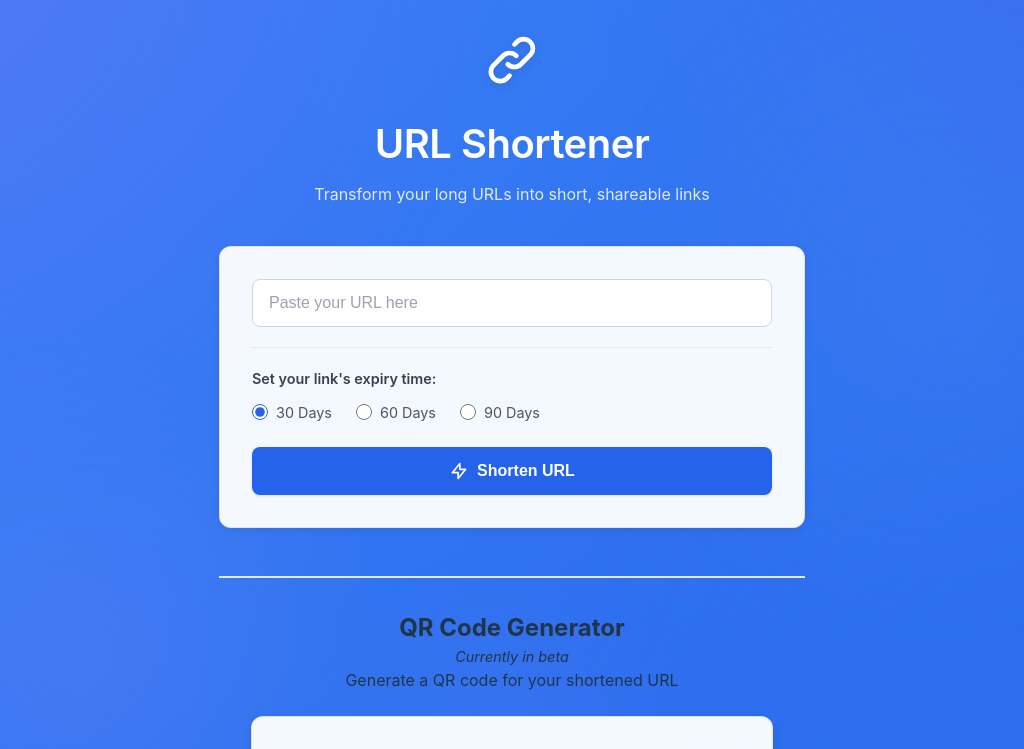
Test: App Component › Successful URL Shortening › should display shortened URL on successful response
The width and height of the screenshot is (1024, 749).
Type "https://example.com/very/long/url" into the field with placeholder "Paste your URL here" at (512, 303), box [252,279,772,327]
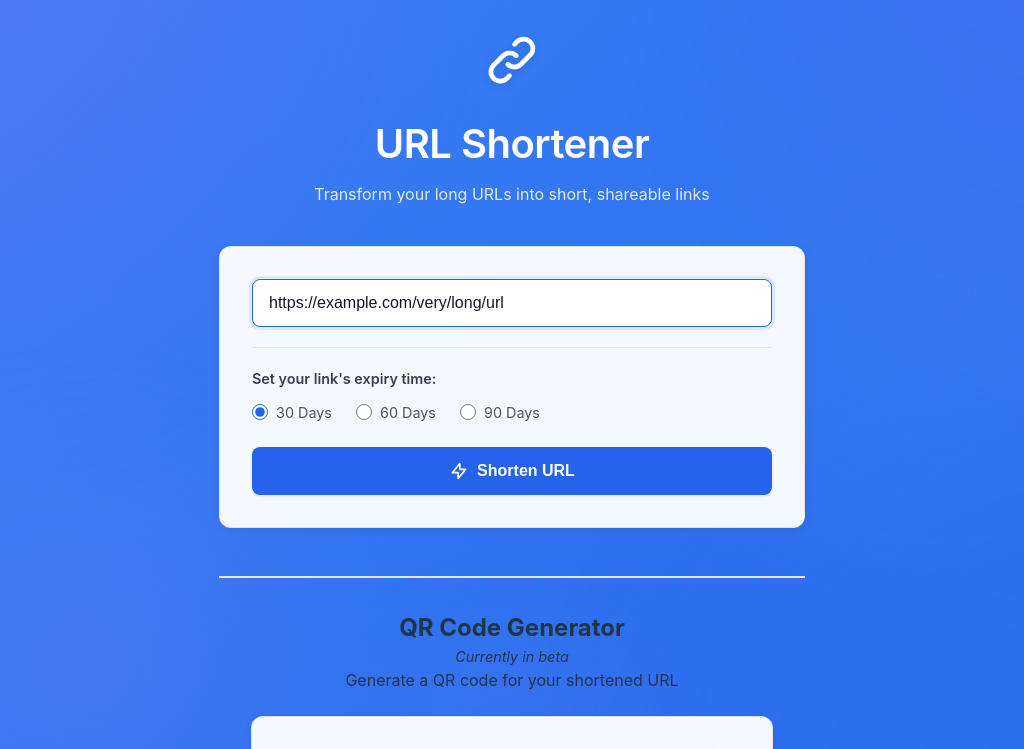
Click the button "Shorten URL" at (512, 471), box [252,447,772,495]
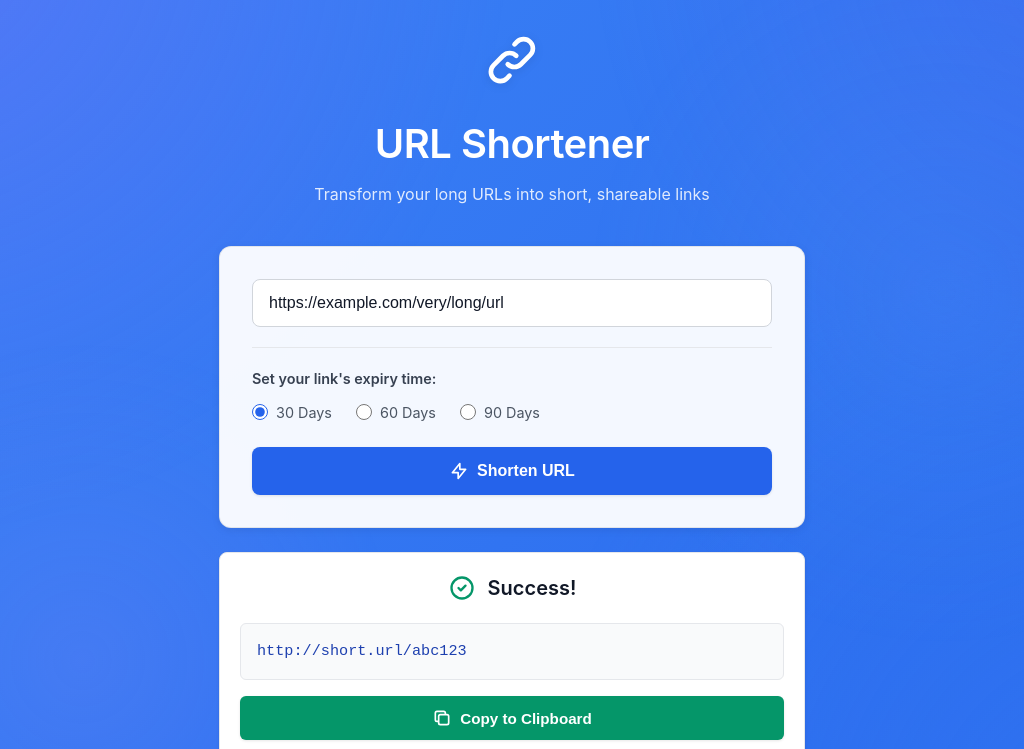
Check: the heading "Success!" is shown, box [488,573,576,603]
Check: the text "http://short.url/abc123" is shown, box [257,642,467,660]
